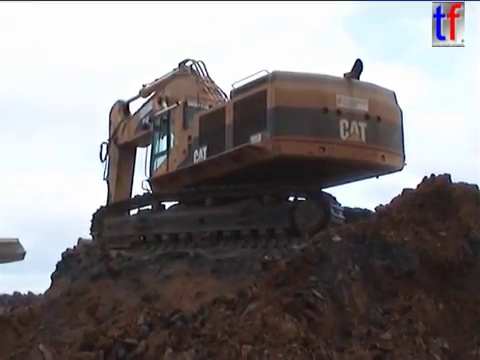excavator: (61, 54, 410, 277)
truck: (1, 235, 29, 267)
